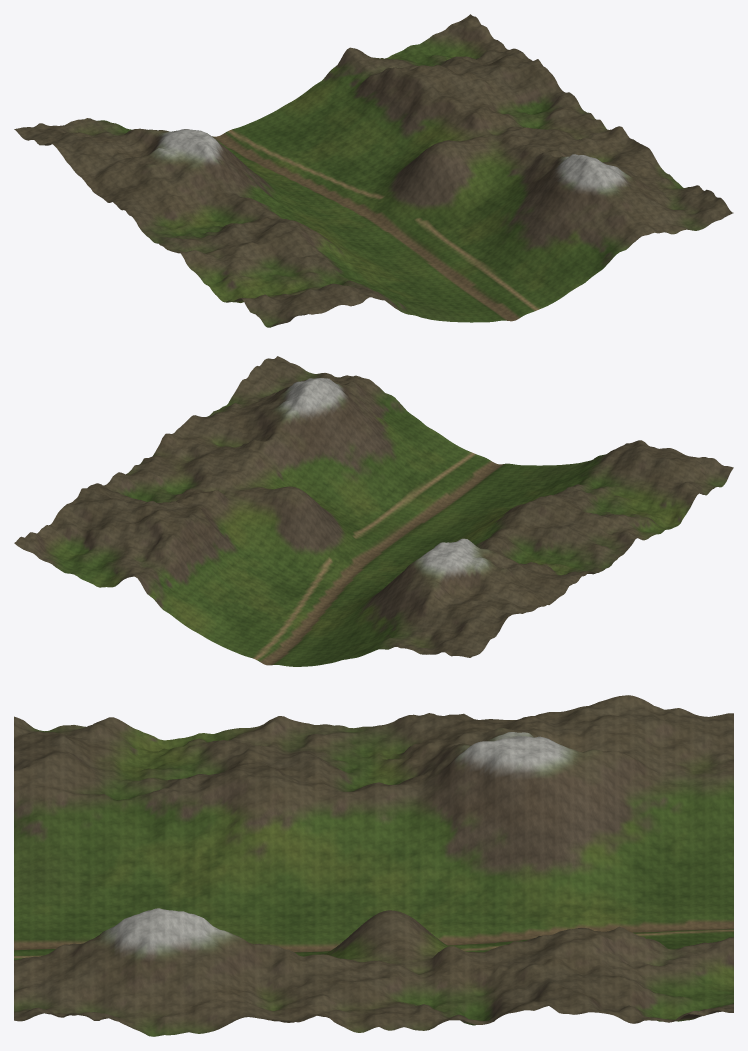
Rendered from valley-terrain-v3.glb.
The picture shows the model from 3 angles, top to bottom: view 1: azimuth 30°, elevation 25°; view 2: azimuth 150°, elevation 25°; view 3: azimuth 270°, elevation 25°; orthographic projection. The views are drawn at different scales.
Parts seen in each view (by area): view 1: ValleyTerrain; view 2: ValleyTerrain; view 3: ValleyTerrain.
Boxes of the visible parts, <box> form: ValleyTerrain: <box>14,14,733,327</box>; ValleyTerrain: <box>14,356,733,666</box>; ValleyTerrain: <box>14,695,733,1036</box>.
Bounding box in the file's own units: 1700 × 330 × 1700.
Materials: 1 (1 with a texture image).
